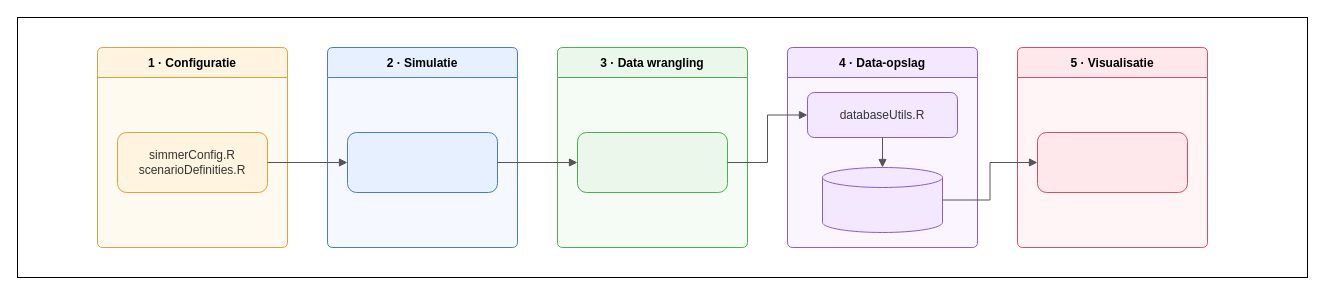
The diagram is 1325 pixels wide and 295 high, and some of its shapes have lost their labels. Each missing label, with the centre of its shape:
"Evidence.dev SQL + pagina's" goes at point 1112,162.
"hospital.duckdb" goes at point 882,199.
"simmerImplementatie.R R / simmer" goes at point 422,162.
"Sterschema dim_* / fct_*" goes at point 652,162.
